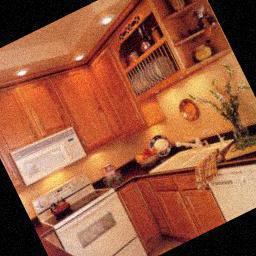Electrodomestico: (33, 166, 148, 256), (211, 159, 256, 220)
Lavaplatos: (145, 118, 242, 191)
